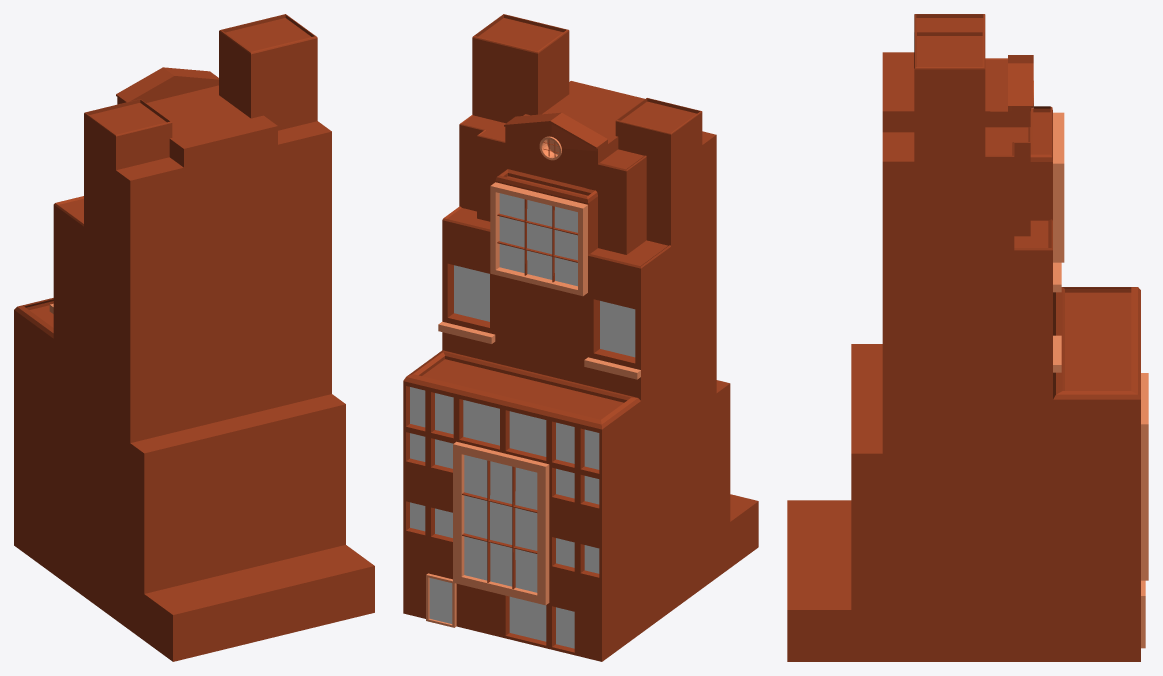
Rendered from St_Thomas_Schoolfbx_re_05.fbx.
3 views of the same model, side by side, from view 1: azimuth 30°, elevation 25°; view 2: azimuth 150°, elevation 25°; view 3: azimuth 270°, elevation 25° (orthographic). The views are drawn at different scales.
Visible parts, largest first — view 1: Main.001; view 2: Main.001, Windows, Window&Door, Window&Door.001, Main.002; view 3: Main.001, Window&Door, Main.002.
Part boxes in pixels (x1,y1,x2,y2): Main.001: [14, 14, 374, 661]; Main.001: [403, 14, 758, 661]; Windows: [410, 193, 635, 648]; Window&Door: [426, 136, 587, 627]; Window&Door.001: [462, 139, 577, 589]; Main.002: [438, 321, 640, 379]; Main.001: [787, 14, 1140, 661]; Window&Door: [1031, 81, 1148, 648]; Main.002: [1053, 262, 1061, 372].
Size of the model in its own units: 2253 by 5700 by 3142.
